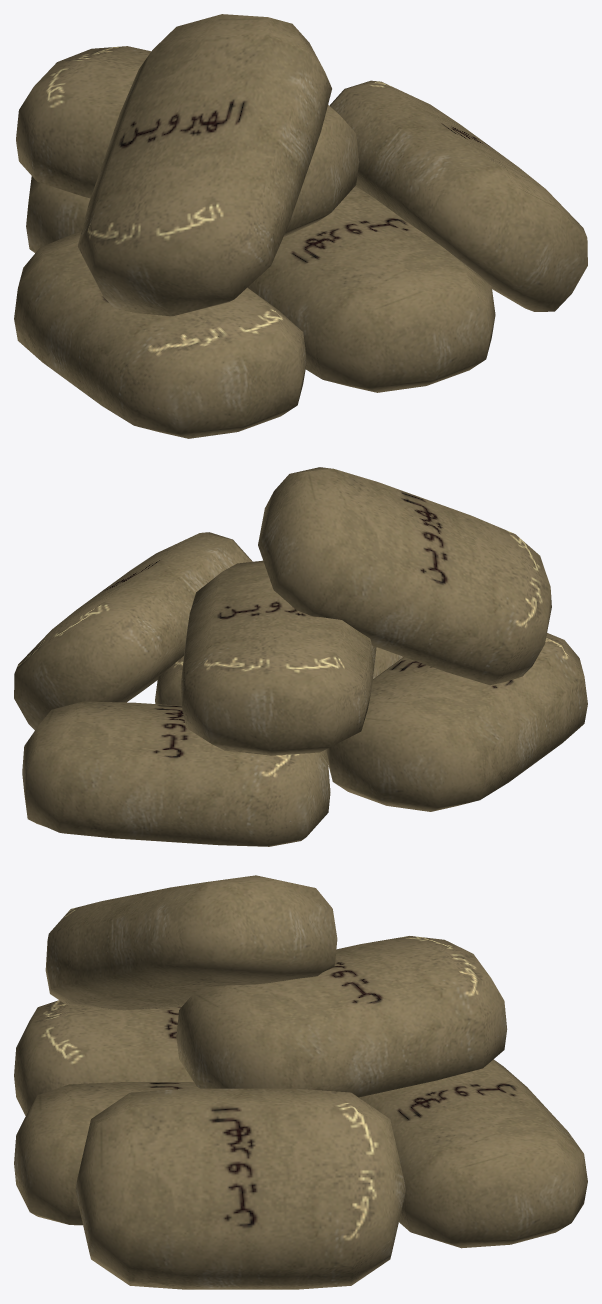
The model's file is HeroinLarge.fbx.
3 renders of one model, top to bottom at view 1: azimuth 30°, elevation 25°; view 2: azimuth 150°, elevation 25°; view 3: azimuth 270°, elevation 25°, orthographic. The views are drawn at different scales.
Visible parts, largest first — view 1: HeroinBig; view 2: HeroinBig; view 3: HeroinBig.
Part boxes in pixels (x1,y1,x2,y2): HeroinBig: (14, 14, 587, 438); HeroinBig: (14, 467, 587, 846); HeroinBig: (14, 875, 587, 1289).
Bounding box in the file's own units: 0.2685 × 0.1613 × 0.2823.
